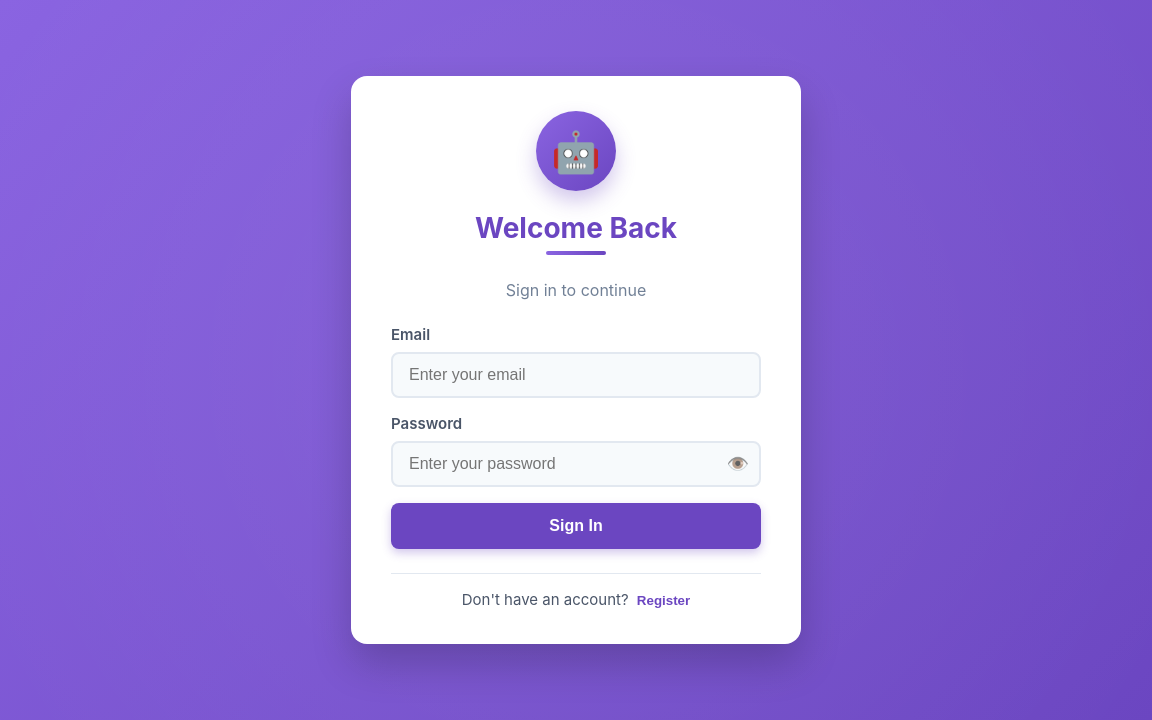
Login Component › handles login error
# Fill in login form
In the field labelled "Email": point(576, 375) [391,352,761,398], type "test@example.com"
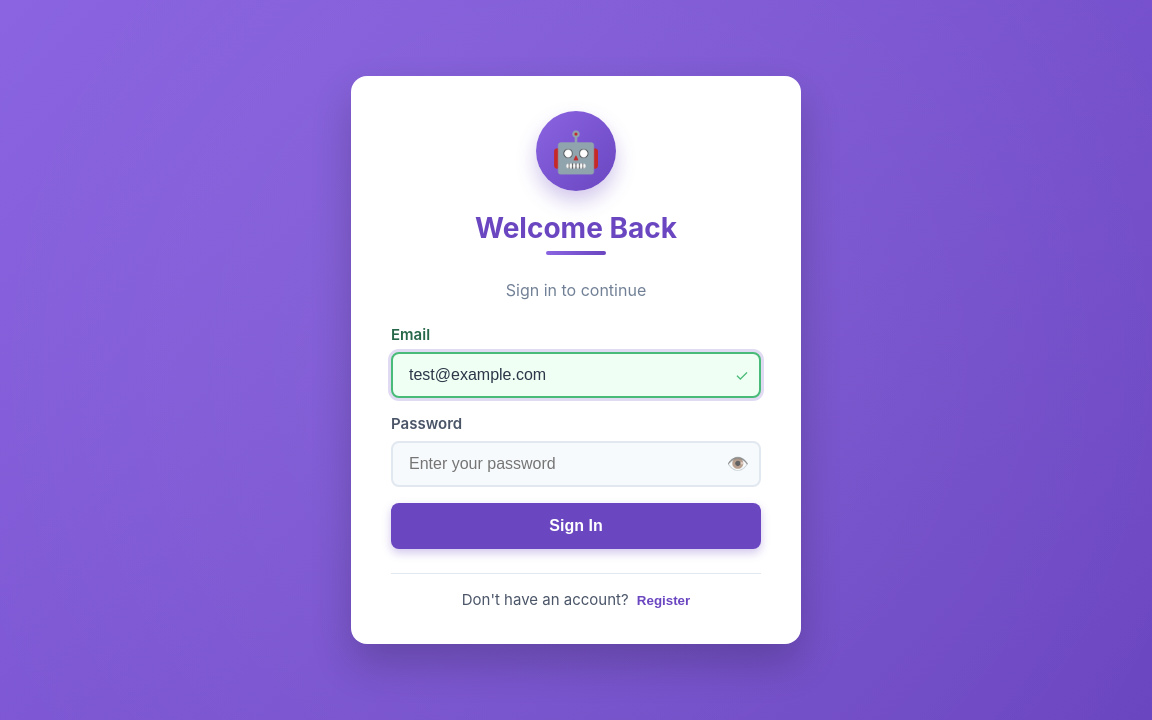
In the password field labelled "Password": point(576, 464) [391,441,761,487], type "password123"
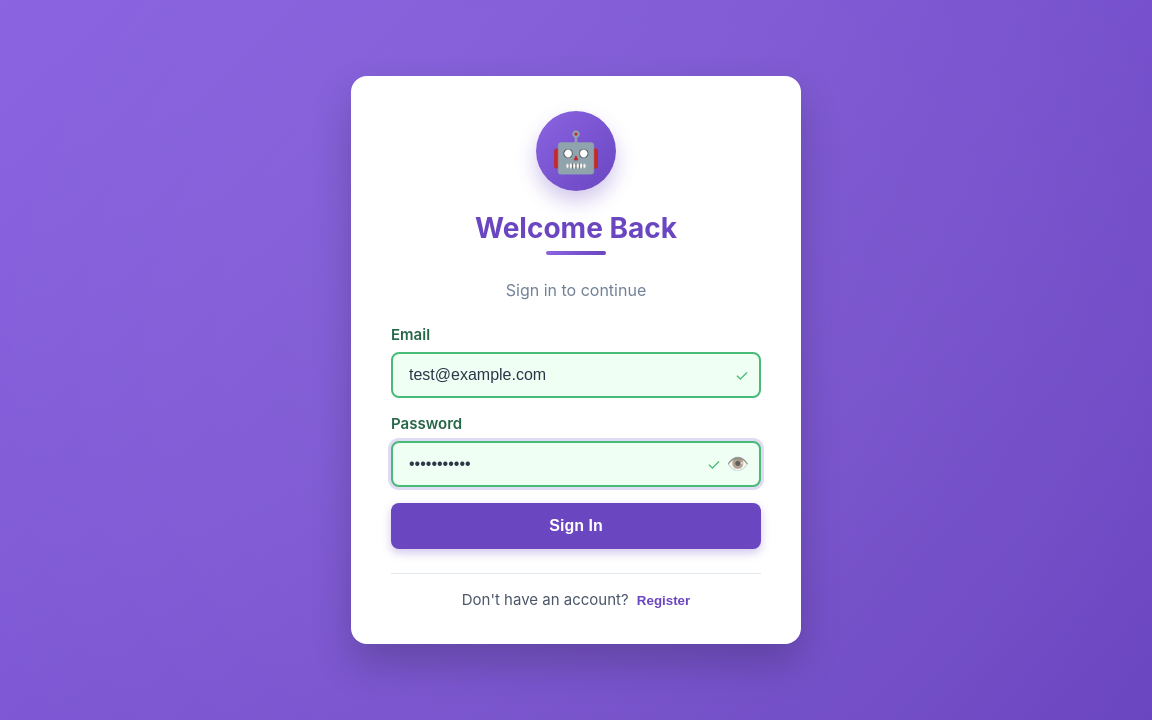
# Submit form
Click the button "Sign In": point(576, 526) [391,503,761,549]
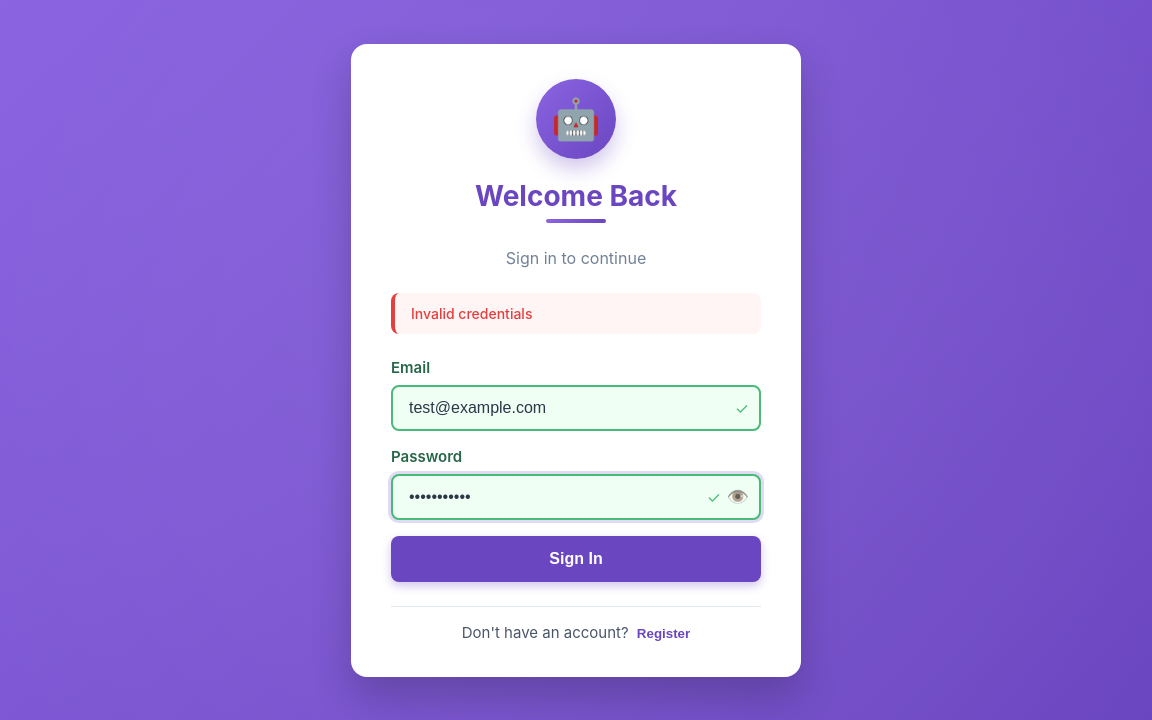
Expected: the text "Invalid credentials" is shown, [391,292,761,334]
